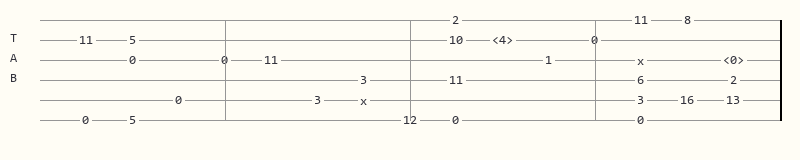0: (82, 114, 93, 126), (129, 54, 140, 66), (175, 94, 186, 106), (221, 54, 232, 66), (452, 114, 463, 126), (591, 34, 602, 46), (637, 114, 648, 126)
1: (545, 54, 556, 66)
10: (449, 34, 467, 46)
11: (79, 34, 97, 46), (264, 54, 282, 66), (449, 74, 467, 86), (634, 14, 652, 26)
12: (403, 114, 421, 126)
13: (726, 94, 744, 106)
16: (680, 94, 698, 106)
2: (452, 14, 463, 26), (730, 74, 741, 86)
3: (314, 94, 325, 106), (360, 74, 371, 86), (637, 94, 648, 106)
5: (129, 34, 140, 46), (129, 114, 140, 126)
6: (637, 74, 648, 86)
8: (684, 14, 695, 26)
harmonic: (492, 34, 517, 46), (723, 54, 748, 66)
x: (360, 95, 371, 105), (637, 55, 648, 65)
